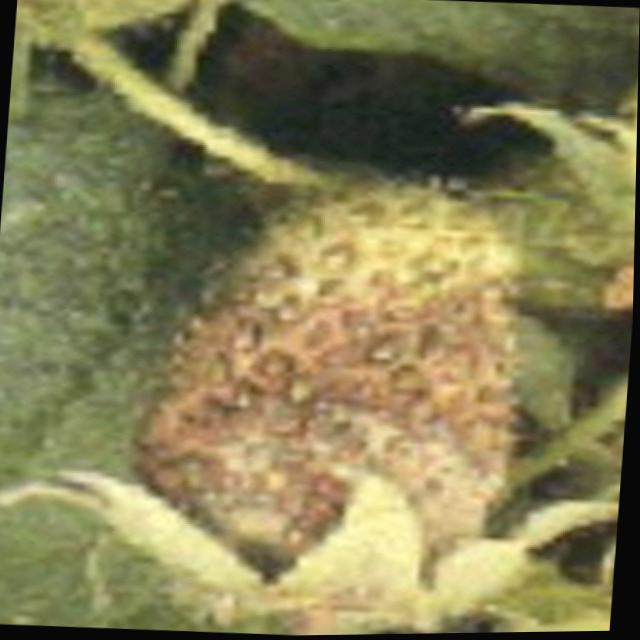Gray Mold: (126, 179, 532, 588)
